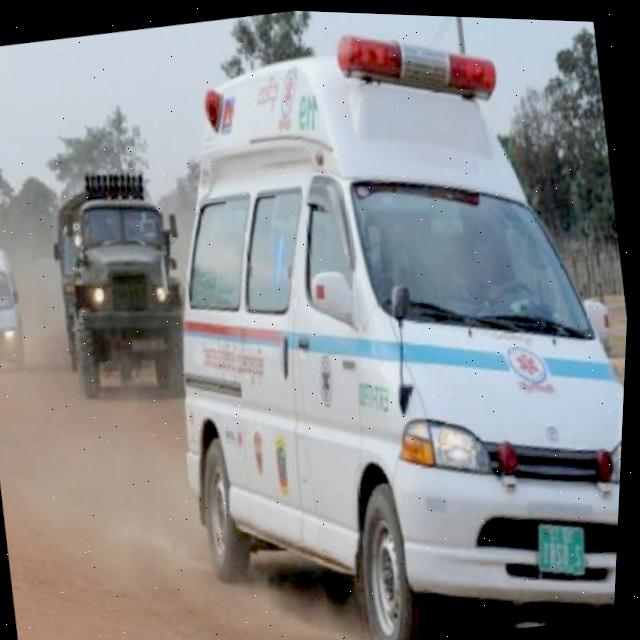emergency: (120, 4, 640, 640)
